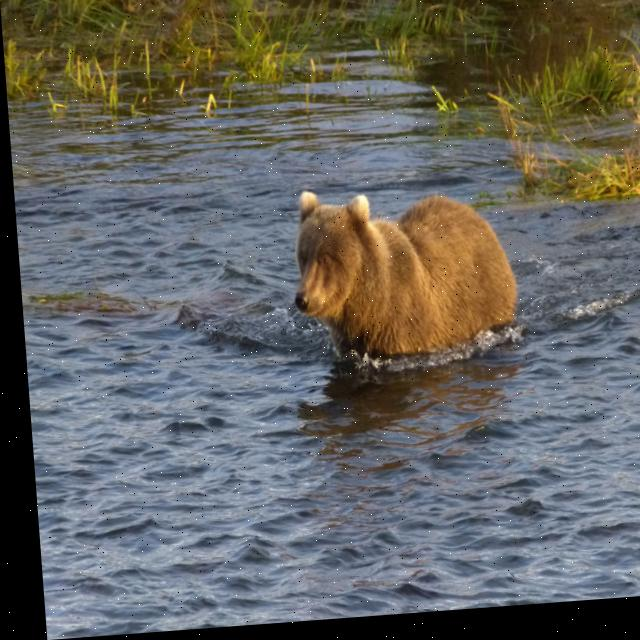bear face: (280, 184, 510, 368)
